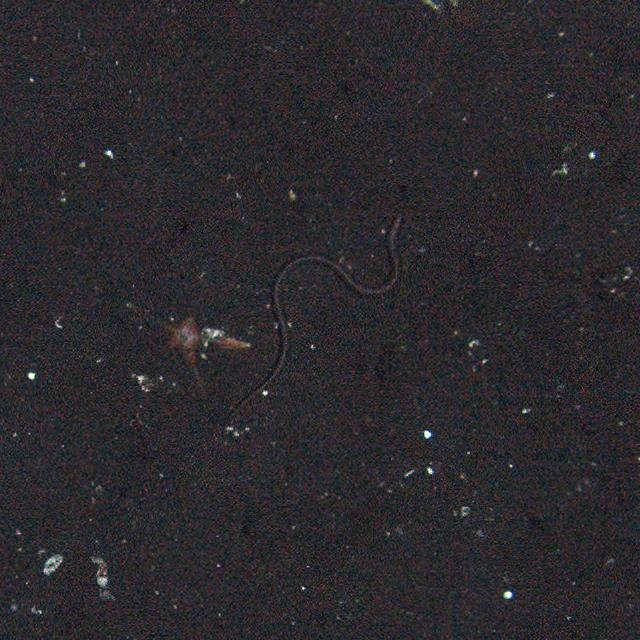eel: (220, 212, 410, 423)
